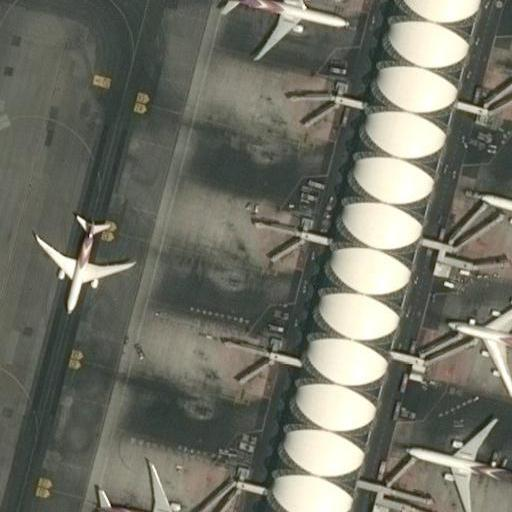Aircraft: (29, 208, 142, 318), (397, 411, 512, 512), (207, 0, 342, 66), (446, 281, 512, 393), (90, 463, 220, 512), (470, 161, 512, 260)
